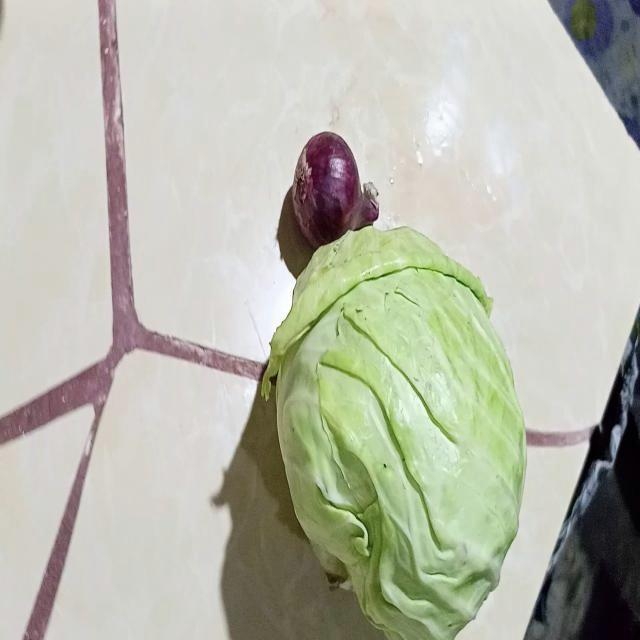cabbage: (269, 227, 525, 640)
onion: (295, 131, 381, 248)
